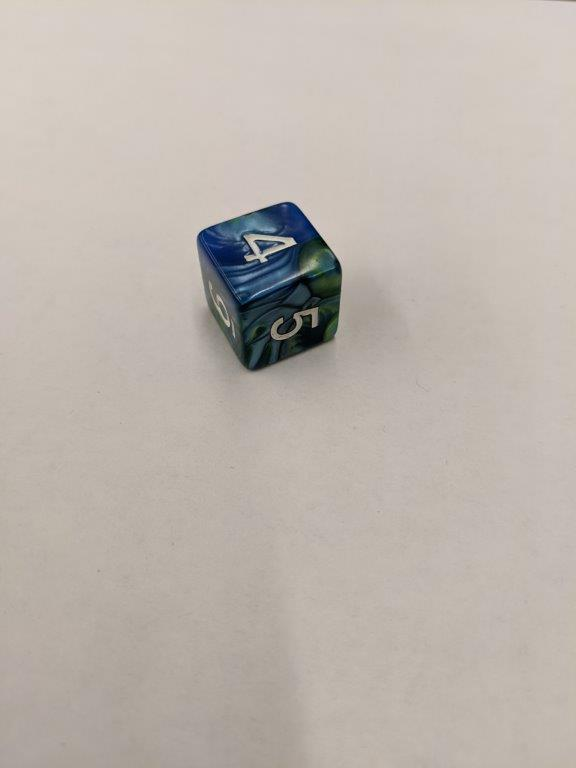d6-4: (196, 199, 342, 371)
